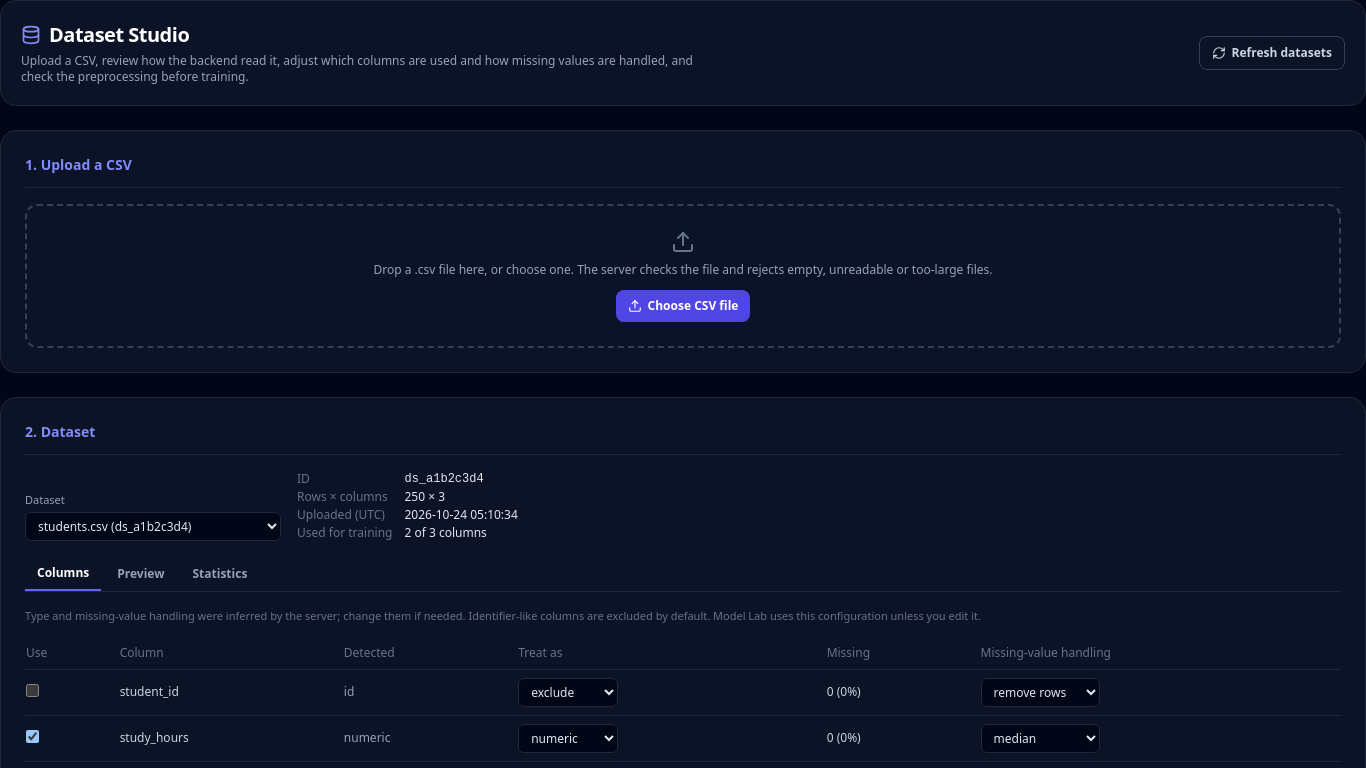
DatasetStudio: datasets › loads the server preview for the dataset
This screenshot has width=1366, height=768.
Click the tab "Preview". click: (141, 574)
box: top-left (105, 557), bottom-right (176, 591)
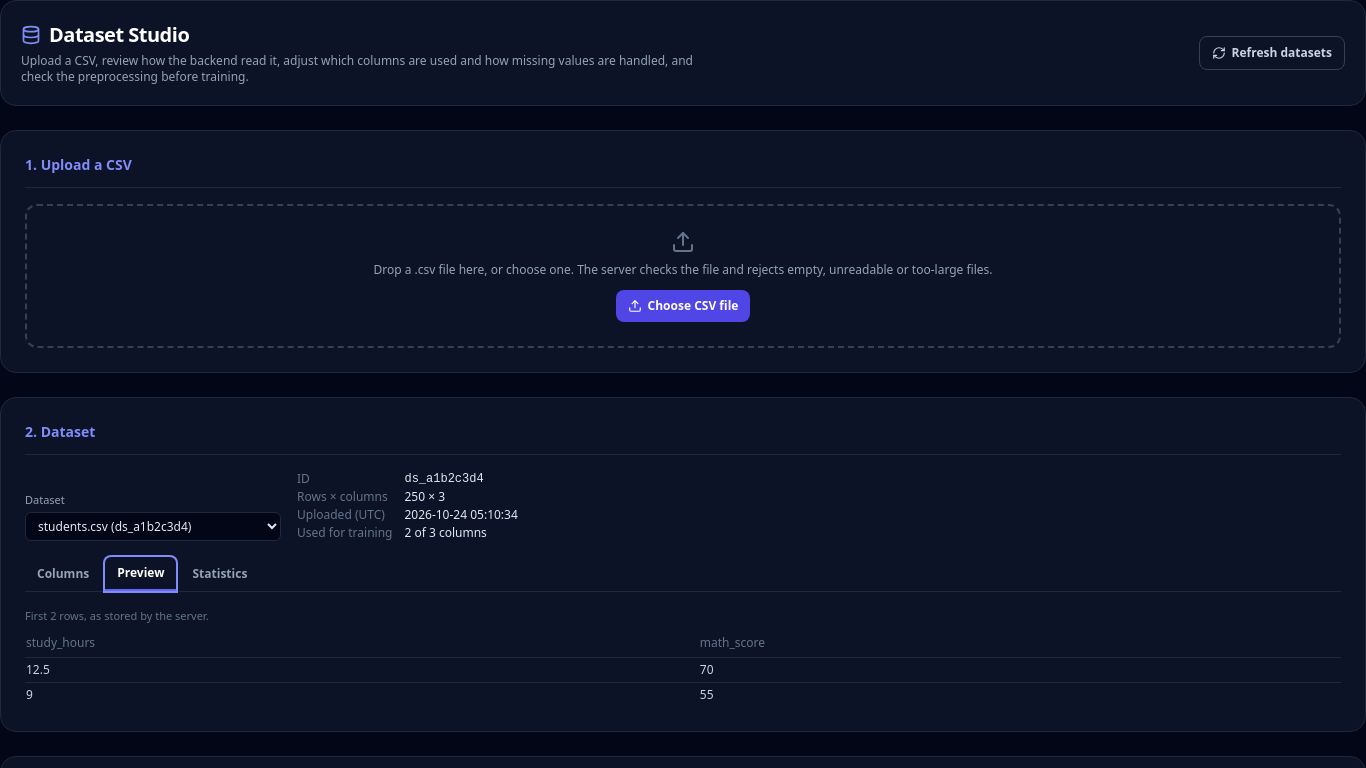
Expected: the element with test id "preview-table" shows "12.5", top-left (26, 660), bottom-right (50, 678)
Expected: the element with test id "preview-table" shows "First 2 rows", top-left (25, 608), bottom-right (1341, 706)
